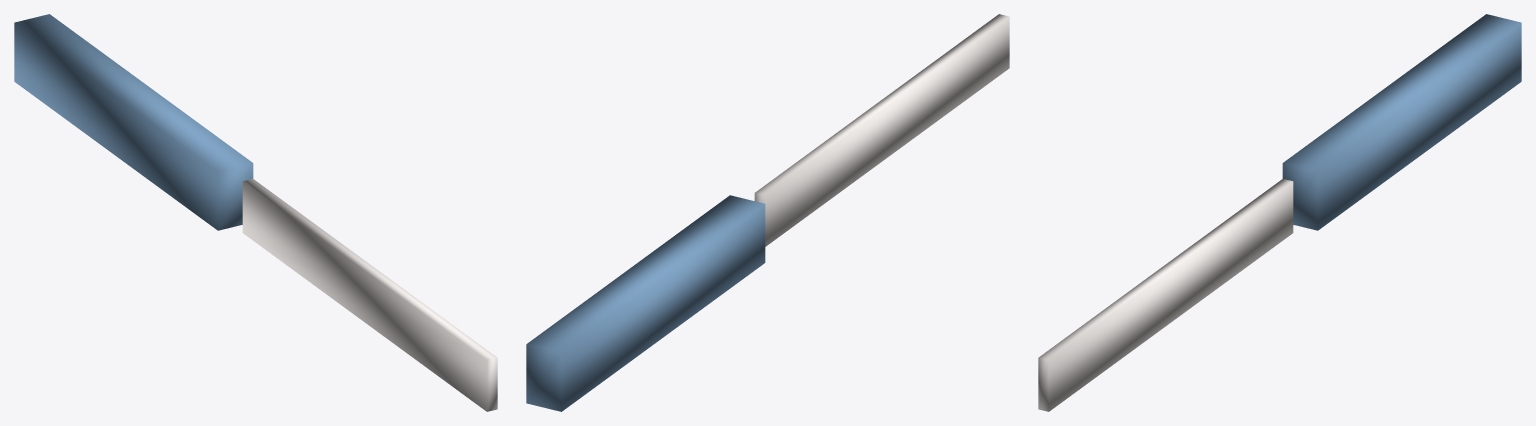
Rendered from knife.glb.
The picture shows the model from 3 angles, left to right: view 1: azimuth 30°, elevation 25°; view 2: azimuth 150°, elevation 25°; view 3: azimuth 330°, elevation 25°; orthographic projection.
Visible parts, largest first — view 1: handle, blade; view 2: handle, blade; view 3: handle, blade.
Part boxes in pixels (x1=…): handle: x1=14, y1=14, x2=253, y2=230; blade: x1=242, y1=179, x2=497, y2=411; handle: x1=526, y1=195, x2=765, y2=411; blade: x1=754, y1=14, x2=1009, y2=246; handle: x1=1282, y1=14, x2=1521, y2=230; blade: x1=1038, y1=179, x2=1293, y2=411.
Size of the model in its own units: 0.05 by 0.08 by 1.13.
